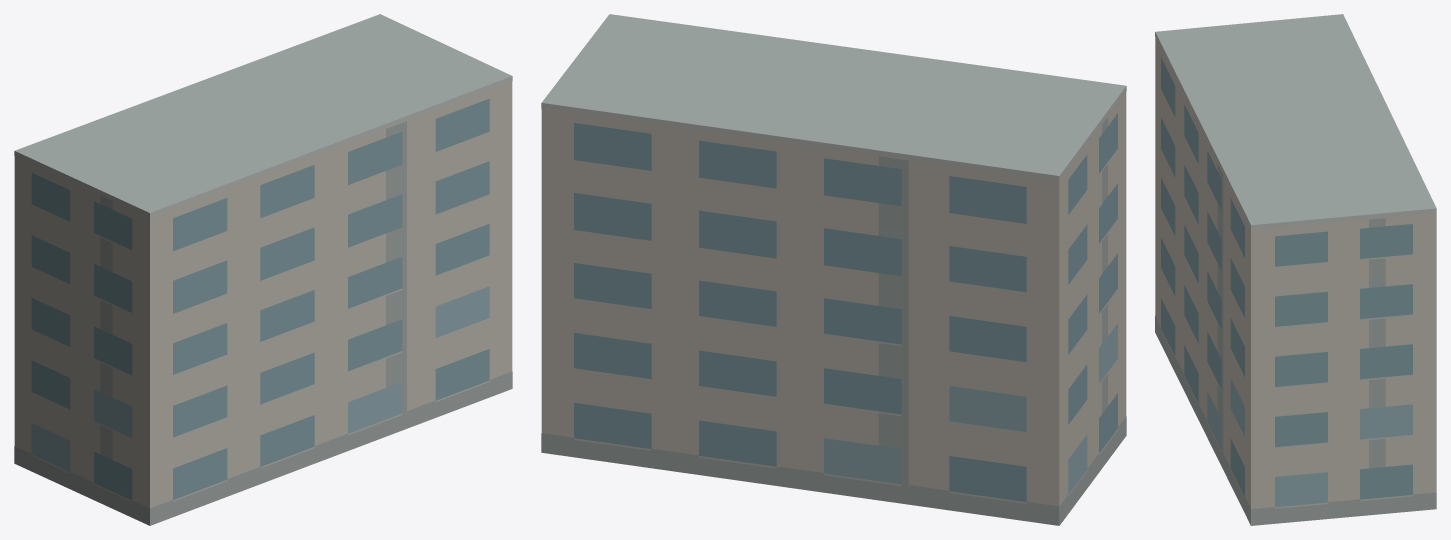
File: survey-upis-32699305.glb
The picture shows the model from 3 angles, left to right: view 1: azimuth 30°, elevation 25°; view 2: azimuth 150°, elevation 25°; view 3: azimuth 270°, elevation 25°; orthographic projection. The views are drawn at different scales.
Parts seen in each view (by area): view 1: survey-upis-32699305.tmp; view 2: survey-upis-32699305.tmp; view 3: survey-upis-32699305.tmp.
Part boxes in pixels (box(x1,y1,x2,y2)): survey-upis-32699305.tmp: box(14, 14, 512, 525); survey-upis-32699305.tmp: box(541, 14, 1126, 525); survey-upis-32699305.tmp: box(1155, 14, 1436, 525).
Size of the model in its own units: 21.99 by 14.6 by 12.4.
